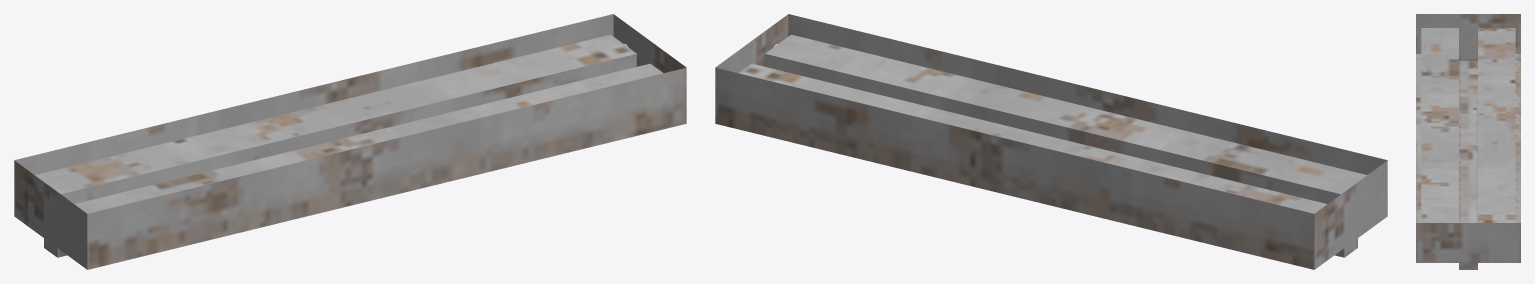
The model's file is lamp_ceiling.fbx.
The picture shows the model from 3 angles, left to right: view 1: azimuth 30°, elevation 25°; view 2: azimuth 150°, elevation 25°; view 3: azimuth 270°, elevation 25°; orthographic projection. The views are drawn at different scales.
Visible parts, largest first — view 1: lamp_ceiling_01; view 2: lamp_ceiling_01; view 3: lamp_ceiling_01.
Part boxes in pixels (x1,y1,x2,y2): lamp_ceiling_01: (14,14,686,269); lamp_ceiling_01: (715,14,1387,269); lamp_ceiling_01: (1416,14,1520,269).
Bounding box in the file's own units: 80 × 8.4 × 16.95.
2 materials, 1 textured.
